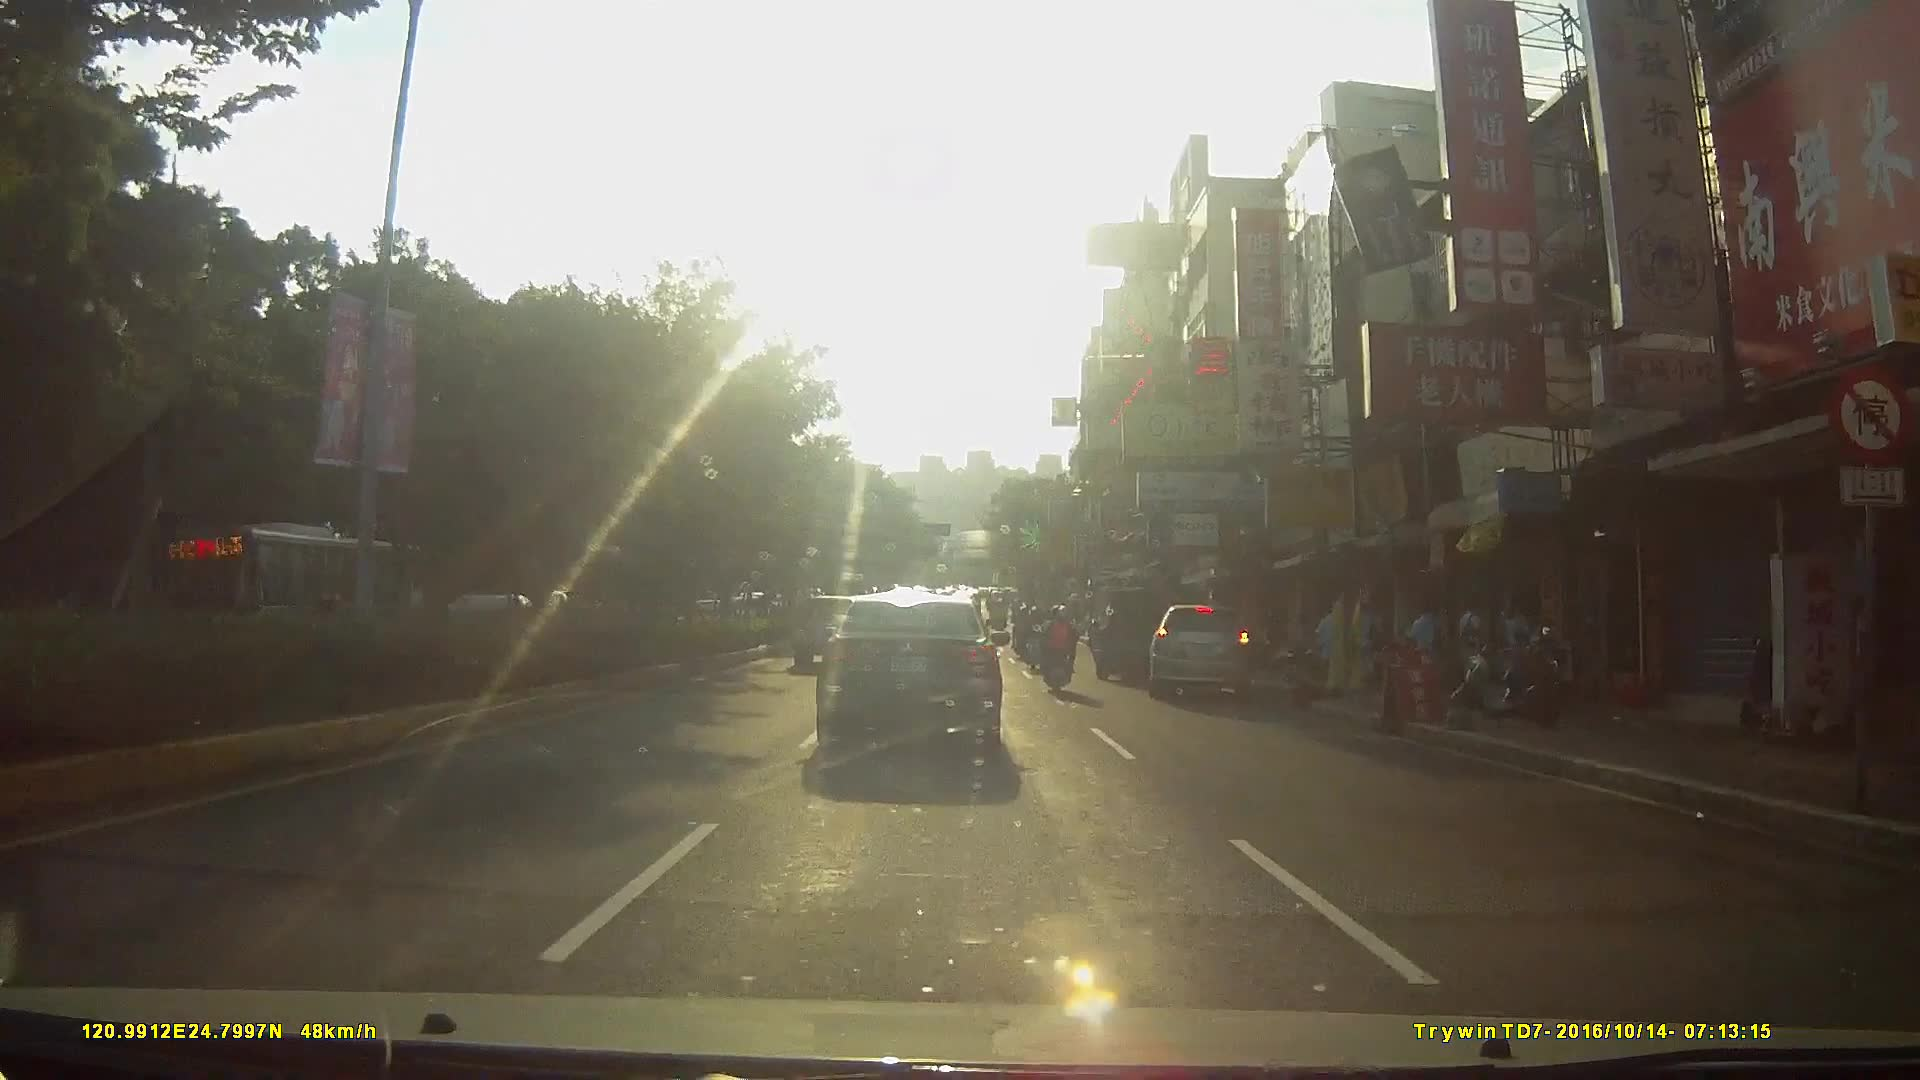pedestrian: (1406, 601, 1444, 688), (1501, 592, 1531, 684), (1459, 594, 1481, 682)
rider: (1038, 596, 1082, 694), (1023, 600, 1047, 670)
vehicle: (163, 517, 425, 667), (817, 590, 1030, 769), (1156, 598, 1272, 705), (1090, 580, 1188, 687)
